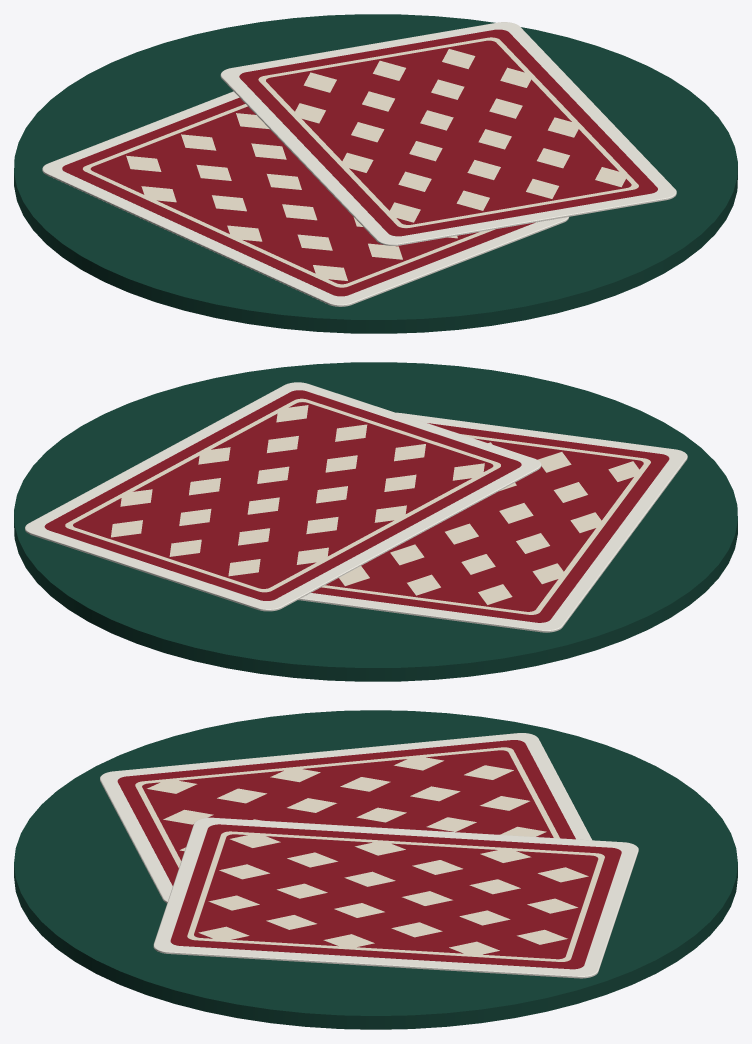
The model's file is hole-cards.glb.
3 views of the same model, one above another, from view 1: azimuth 30°, elevation 25°; view 2: azimuth 150°, elevation 25°; view 3: azimuth 270°, elevation 25° (orthographic).
Parts seen in each view (by area): view 1: table_pad, back_field_over, back_field_under, card_body_over, back_lattice_over, card_body_under, back_lattice_under, back_keyline_over, back_keyline_under; view 2: table_pad, back_field_over, back_field_under, card_body_over, back_lattice_over, card_body_under, back_lattice_under, back_keyline_over, back_keyline_under; view 3: table_pad, back_field_over, back_field_under, card_body_over, back_lattice_over, card_body_under, back_lattice_under, back_keyline_over, back_keyline_under.
Boxes of the visible parts, x1,y1,x2,y2 form: table_pad: (14, 14, 737, 333); back_field_over: (239, 29, 657, 236); back_field_under: (62, 97, 535, 296); card_body_over: (220, 22, 676, 245); back_lattice_over: (293, 49, 625, 222); card_body_under: (42, 91, 569, 306); back_lattice_under: (126, 113, 457, 280); back_keyline_over: (258, 37, 638, 228); back_keyline_under: (83, 104, 495, 287); table_pad: (14, 362, 737, 681); back_field_over: (44, 390, 521, 600); back_field_under: (311, 423, 669, 622); card_body_over: (25, 382, 541, 611); back_lattice_over: (111, 405, 484, 576); card_body_under: (298, 412, 687, 632); back_lattice_under: (339, 442, 641, 604); back_keyline_over: (65, 398, 500, 592); back_keyline_under: (321, 434, 650, 614); table_pad: (14, 710, 737, 1029); back_field_over: (170, 824, 621, 969); back_field_under: (117, 740, 575, 885); card_body_over: (153, 817, 638, 978); back_lattice_over: (198, 833, 588, 956); card_body_under: (100, 733, 591, 902); back_lattice_under: (147, 757, 546, 851); back_keyline_over: (187, 831, 604, 961); back_keyline_under: (135, 747, 559, 867).
Size of the model in its own units: 0.144 by 0.00449 by 0.144.
